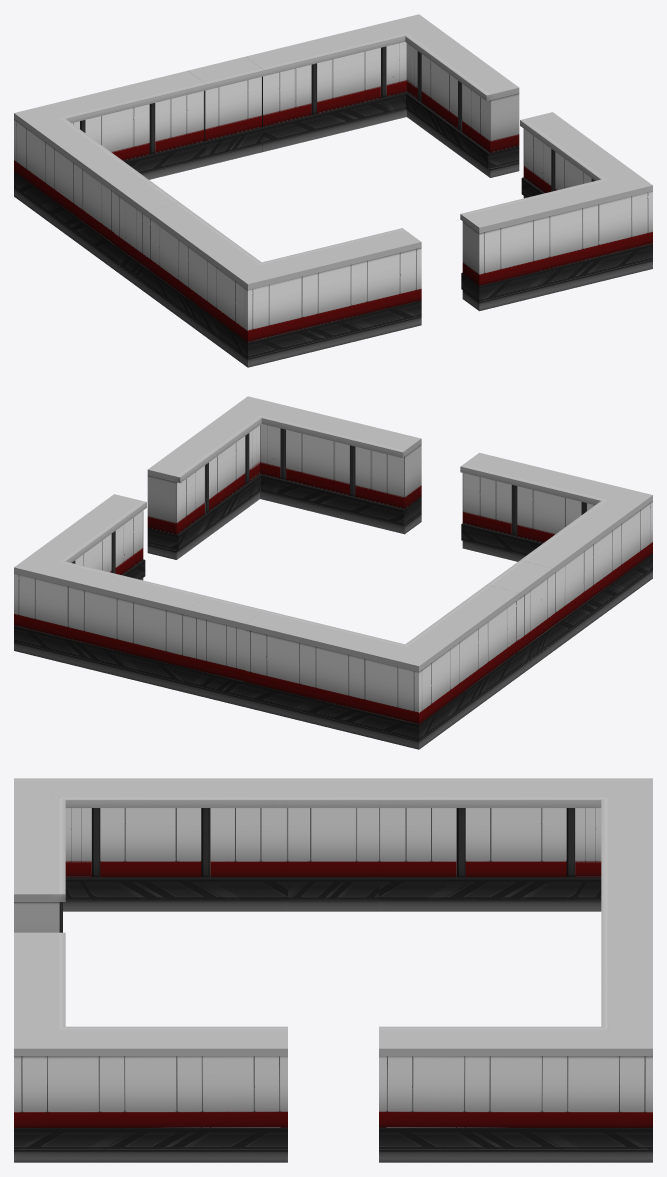
The model's file is Room05.FBX.
The picture shows the model from 3 angles, top to bottom: view 1: azimuth 30°, elevation 25°; view 2: azimuth 150°, elevation 25°; view 3: azimuth 270°, elevation 25°; orthographic projection. The views are drawn at different scales.
Visible parts, largest first — view 1: Box047, Box049, Box052, Box051, Box055, Box050, Box054, Box048, Box062, Box056; view 2: Box052, Box054, Box047, Box048, Box050, Box055, Box049, Box062, Box051, Box056; view 3: Box048, Box051, Box050, Box055, Box056, Box049, Box054, Box047, Box052, Box062.
Boxes of the visible parts, left/top/right/bottom form: Box047: left=460, top=179, right=652, bottom=311; Box049: left=248, top=228, right=421, bottom=367; Box052: left=246, top=14, right=418, bottom=152; Box051: left=405, top=14, right=519, bottom=177; Box055: left=14, top=113, right=146, bottom=269; Box050: left=147, top=203, right=261, bottom=367; Box054: left=15, top=70, right=206, bottom=179; Box048: left=520, top=112, right=652, bottom=198; Box062: left=188, top=56, right=264, bottom=166; Box056: left=114, top=178, right=179, bottom=293; Box052: left=14, top=561, right=205, bottom=693; Box054: left=245, top=610, right=418, bottom=749; Box047: left=248, top=396, right=421, bottom=534; Box048: left=147, top=396, right=261, bottom=559; Box050: left=520, top=495, right=652, bottom=651; Box055: left=405, top=585, right=519, bottom=749; Box049: left=460, top=452, right=651, bottom=561; Box062: left=187, top=596, right=263, bottom=706; Box051: left=14, top=494, right=146, bottom=580; Box056: left=487, top=560, right=552, bottom=675; Box048: left=14, top=1026, right=287, bottom=1162; Box051: left=379, top=1026, right=652, bottom=1162; Box050: left=14, top=778, right=287, bottom=911; Box055: left=379, top=778, right=652, bottom=911; Box056: left=288, top=778, right=378, bottom=911; Box049: left=14, top=778, right=65, bottom=932; Box054: left=601, top=778, right=652, bottom=894; Box047: left=14, top=932, right=65, bottom=1048; Box052: left=601, top=932, right=652, bottom=1048; Box062: left=601, top=894, right=652, bottom=932.
Size of the model in its own units: 140 by 27.57 by 140.
1 material, 1 textured.
